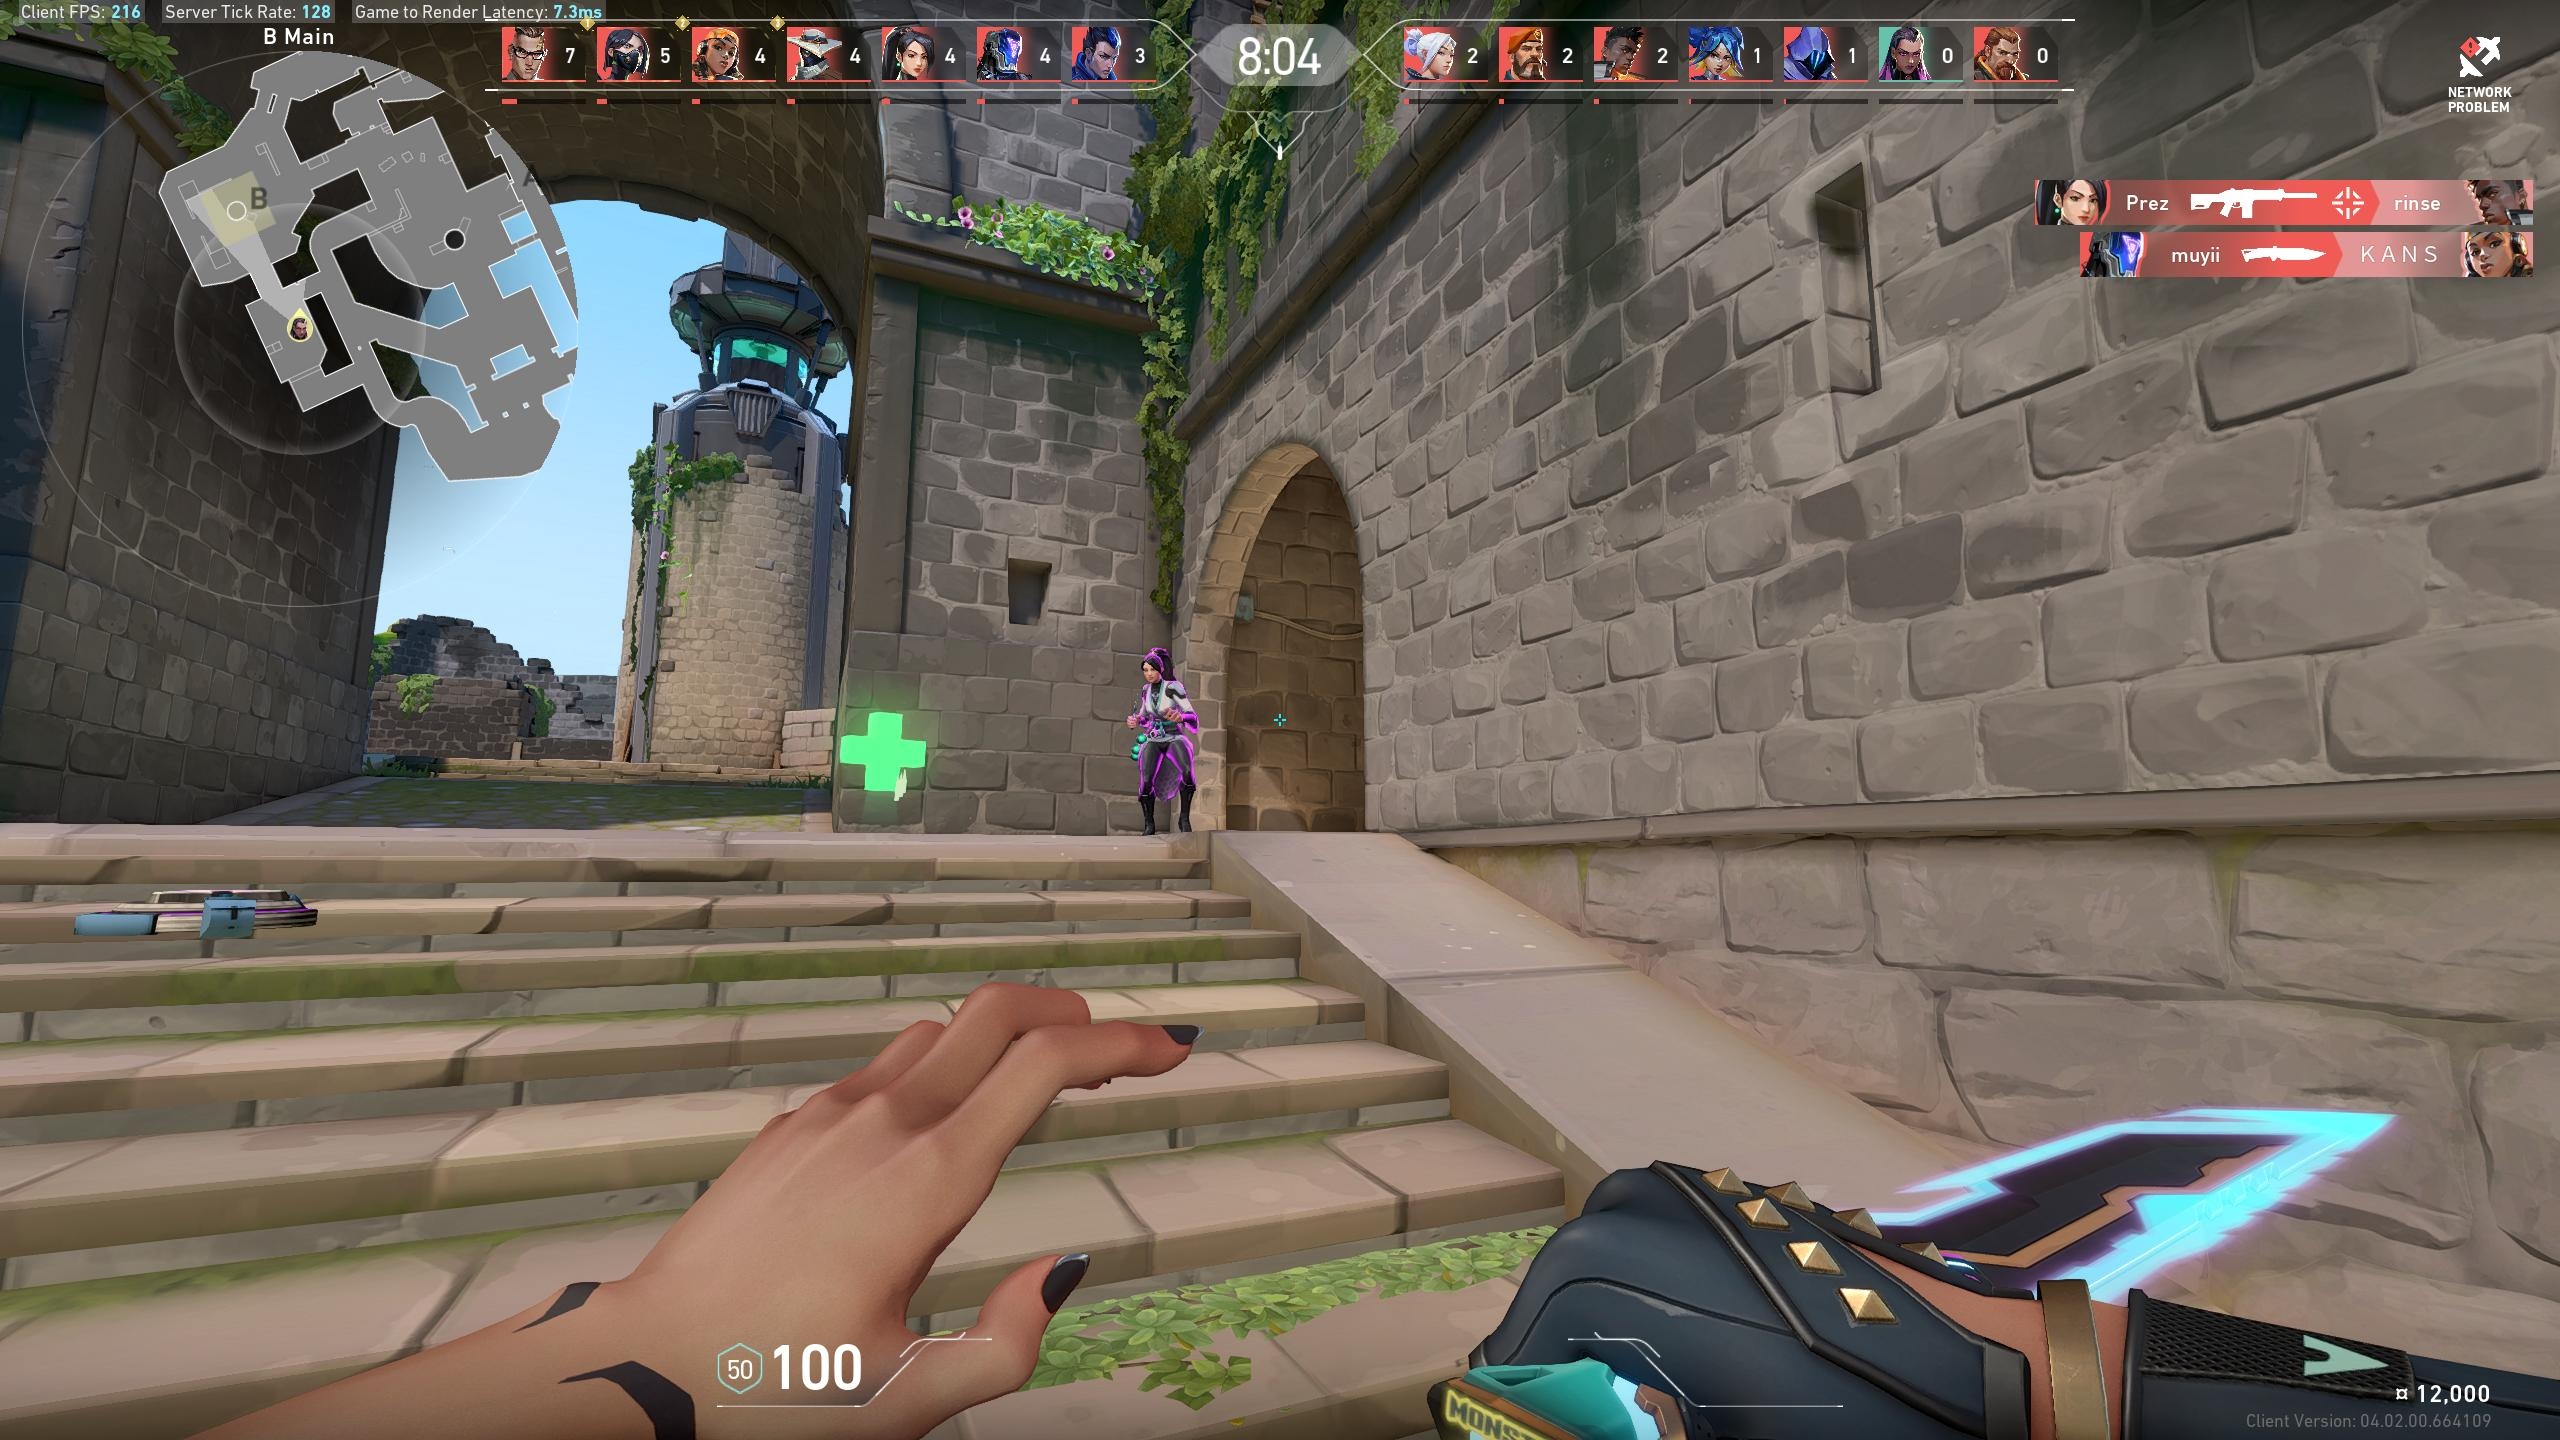enemyBody: (1146, 686, 1175, 728)
enemyHead: (1143, 658, 1159, 679)
